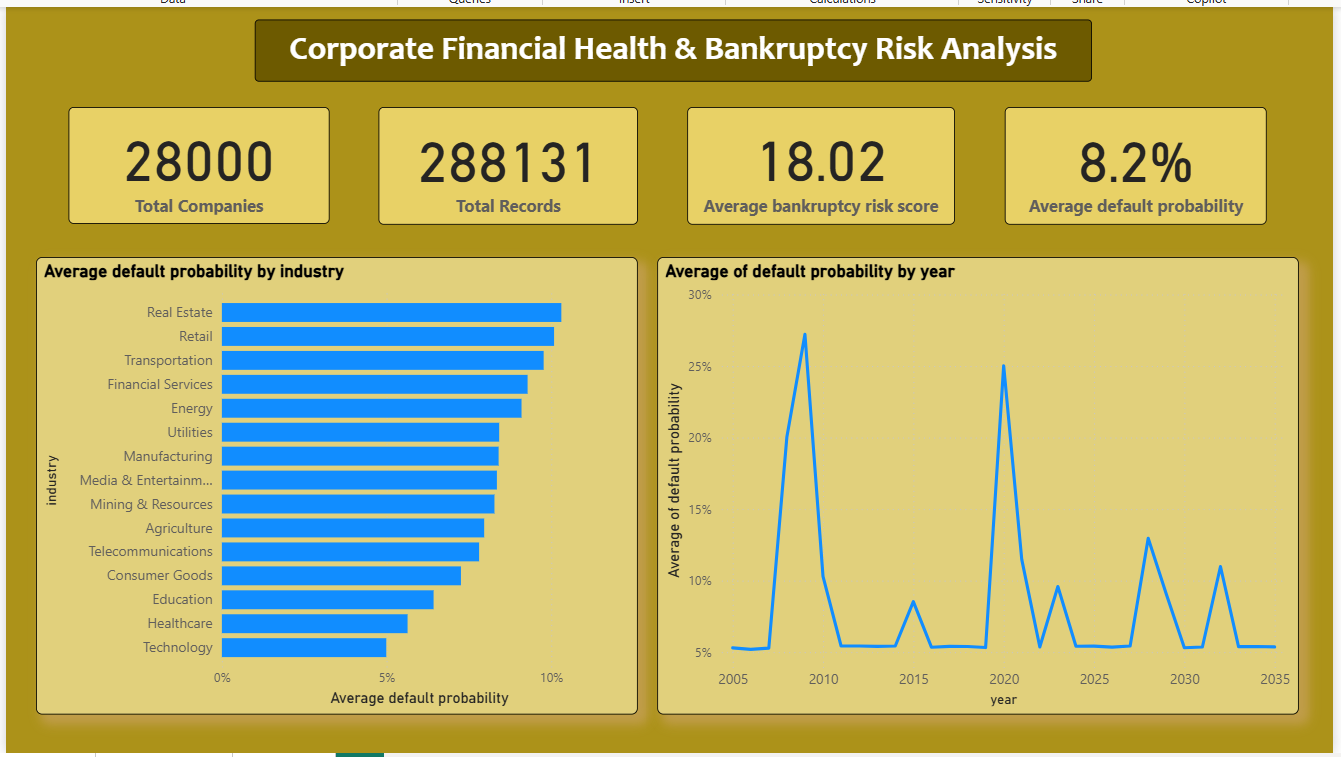

The dashboard page shown, as its layout file describes it:
{"tool":"powerbi","page":{"name":"Dashboard-1","canvas":[1280,720],"ordinal":0},"visuals":[{"type":"card","fields":{"Values":["Count(Financial Risk- Dataset.company_id)"]},"box":[59.9,96.6,251.9,112.5],"z":0},{"type":"card","fields":{"Values":["CountNonNull(Financial Risk- Dataset.company_id)"]},"box":[359.5,96.6,250.7,113.7],"z":1000},{"type":"card","fields":{"Values":["Avg(Financial Risk- Dataset.default_probability)"]},"box":[963.6,96.6,253.1,113.7],"z":2000},{"type":"card","fields":{"Values":["Avg(Financial Risk- Dataset.bankruptcy_risk_score)"]},"box":[657.5,96.5,258.2,113.4],"z":3000},{"type":"clusteredBarChart","fields":{"Category":["Financial Risk- Dataset.industry"],"Y":["Avg(Financial Risk- Dataset.default_probability)"]},"box":[29.3,240.9,580.8,441.4],"z":4000},{"type":"lineChart","fields":{"Category":["Financial Risk- Dataset.year"],"Y":["Avg(Financial Risk- Dataset.default_probability)"]},"box":[628.6,241.3,618.9,441.6],"z":5000},{"type":"textbox","box":[240.1,12.1,808.3,60.3],"z":6000}]}

Visuals, with their boxes on the page's 1280x720 design canvas (x1, y1, x2, y2). These are canvas units, not pixel positions in the 1341x757 screenshot, which may show the page scaled, cropped or inside an application window:
card - Count(Financial Risk- Dataset.company_id): (x1=60, y1=97, x2=312, y2=209)
card - CountNonNull(Financial Risk- Dataset.company_id): (x1=360, y1=97, x2=610, y2=210)
card - Avg(Financial Risk- Dataset.default_probability): (x1=964, y1=97, x2=1217, y2=210)
card - Avg(Financial Risk- Dataset.bankruptcy_risk_score): (x1=658, y1=96, x2=916, y2=210)
clusteredBarChart - Financial Risk- Dataset.industry x Avg(Financial Risk- Dataset.default_probability): (x1=29, y1=241, x2=610, y2=682)
lineChart - Financial Risk- Dataset.year x Avg(Financial Risk- Dataset.default_probability): (x1=629, y1=241, x2=1248, y2=683)
textbox: (x1=240, y1=12, x2=1048, y2=72)
